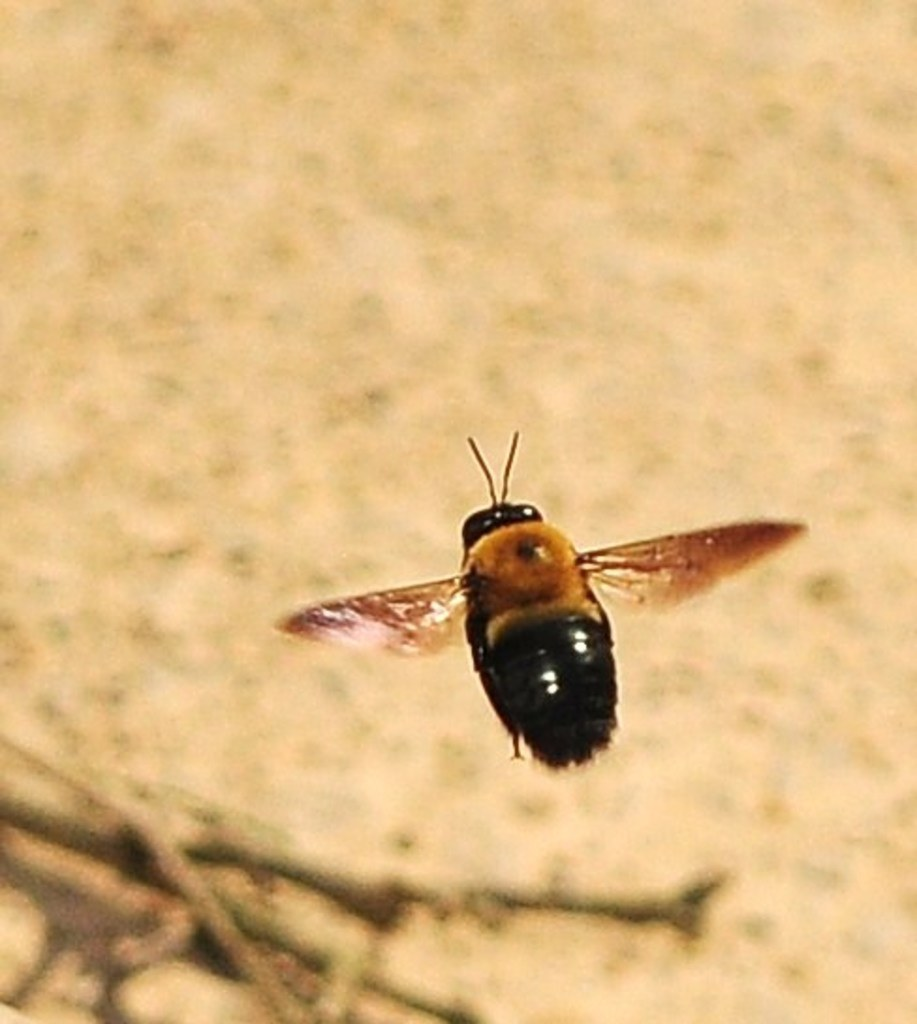bee: (293, 417, 816, 785)
